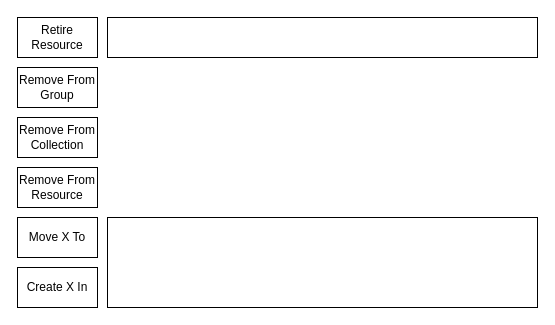
This 555x325 diagram has some shape labels left out. Each missing label, with the centre of its shape:
Retiring this Resource will remove from the following collections/folders: point (322, 37)
Target Group/Folder/Collection Is: - Viewable By - Editable By - Removable By: point (322, 262)
